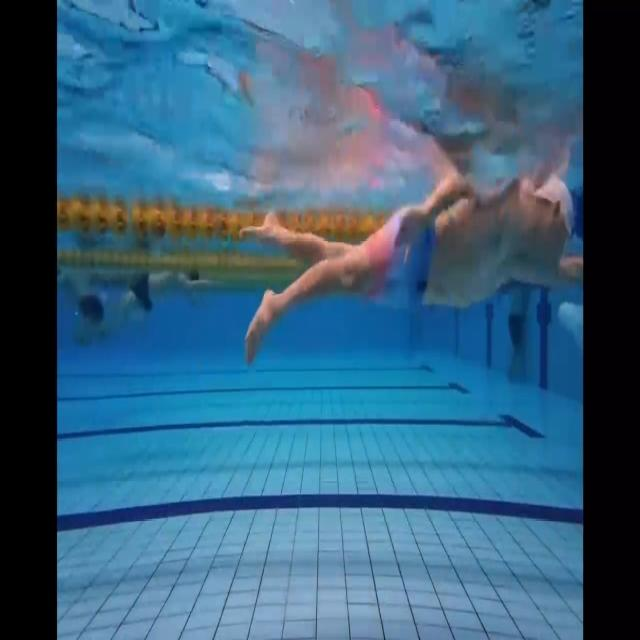Swimming: (238, 171, 585, 369), (119, 268, 214, 328), (56, 269, 112, 342)
